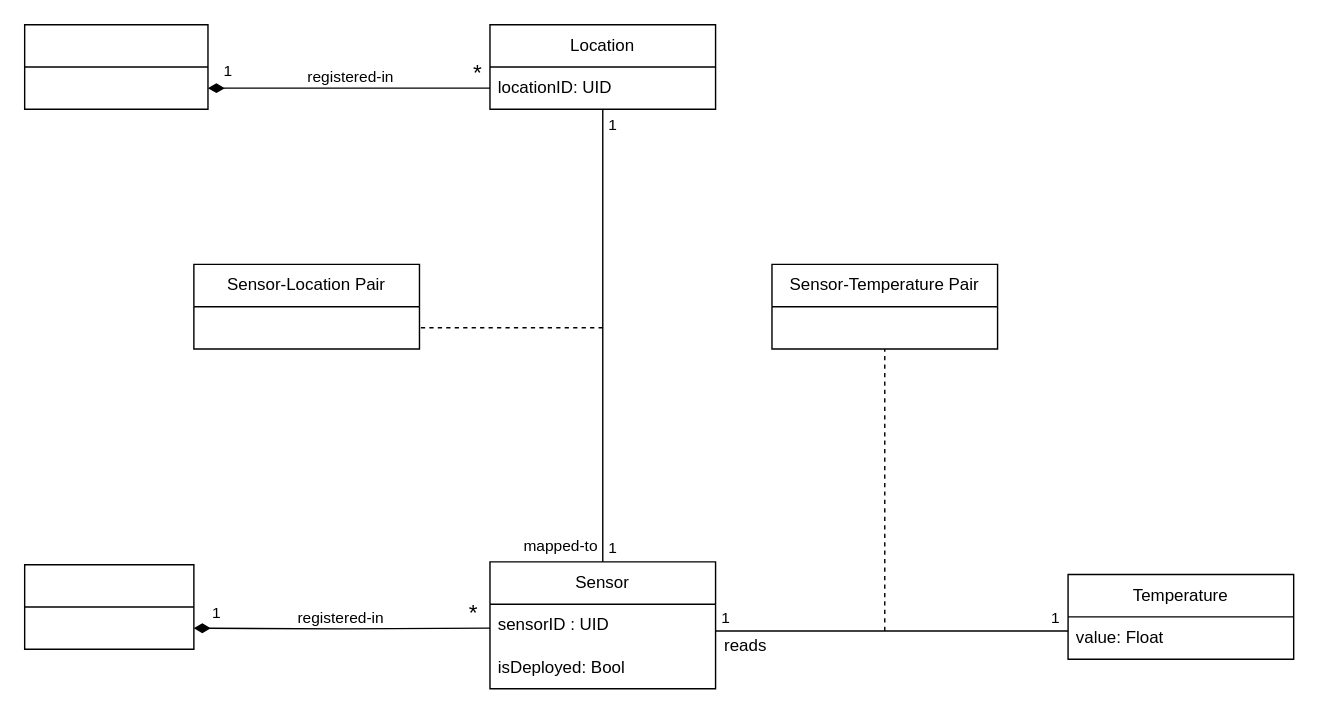
Image size: 1318x713. Some labels were removed from this diagram. Each missing label, with the centre of its shape:
MapRegistry: the point at 115,66
SensorRegistry: the point at 108,606
